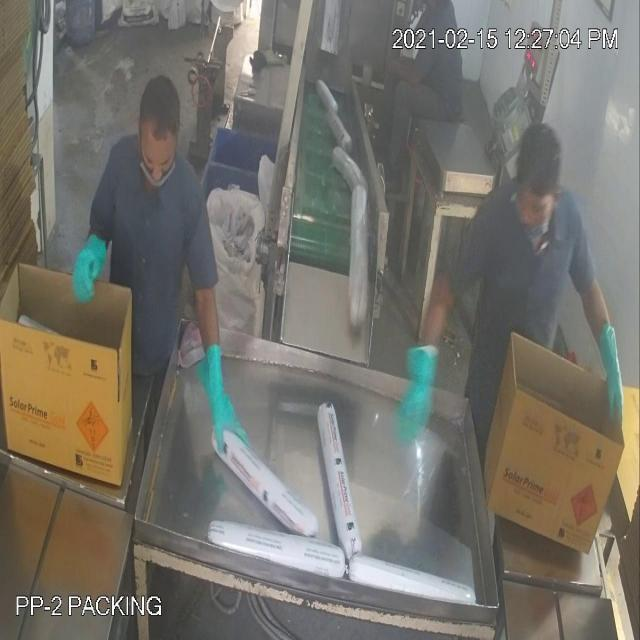Gloves: (31, 58, 611, 392)
